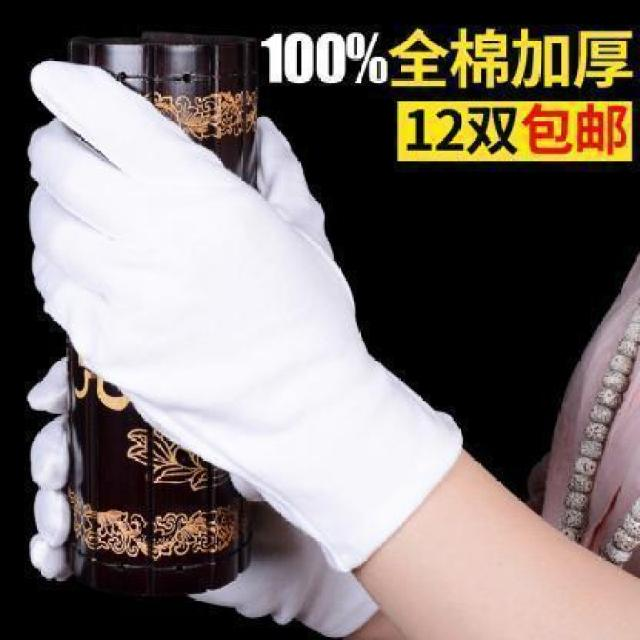hand_glove: (24, 58, 359, 485)
